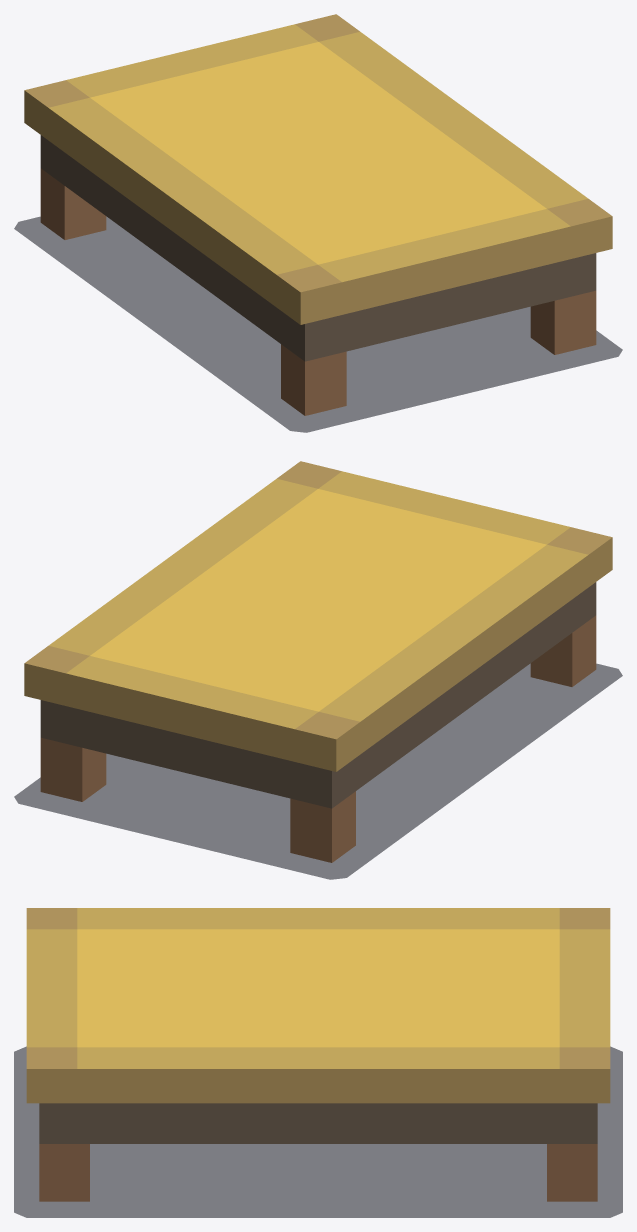
File: modelo.obj
3 renders of one model, top to bottom at view 1: azimuth 30°, elevation 25°; view 2: azimuth 150°, elevation 25°; view 3: azimuth 270°, elevation 25°, orthographic. The views are drawn at different scales.
Visible parts, largest first — view 1: polygon1, polygon0; view 2: polygon1, polygon0; view 3: polygon1, polygon0.
Boxes of the visible parts, x1,y1,x2,y2 form: polygon1: (24,14,612,415); polygon0: (14,216,622,432); polygon1: (24,461,612,862); polygon0: (14,663,622,879); polygon1: (26,908,610,1201); polygon0: (14,1046,622,1217).
Size of the model in its own units: 32 by 12.5 by 48.
2 materials, 2 textured.
